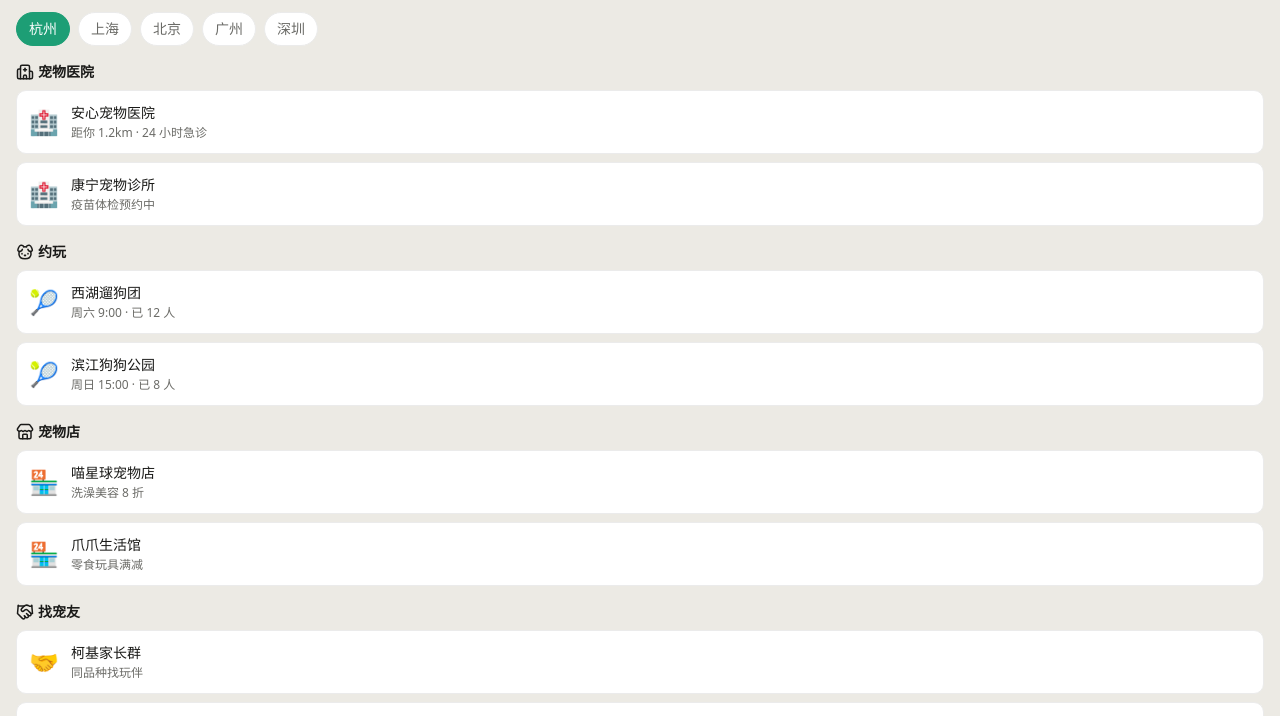
LocalView 同城分区 › 无数据城市显示各分区空态
Click the button "深圳".
click(291, 29)  # box 264,12 -> 318,46
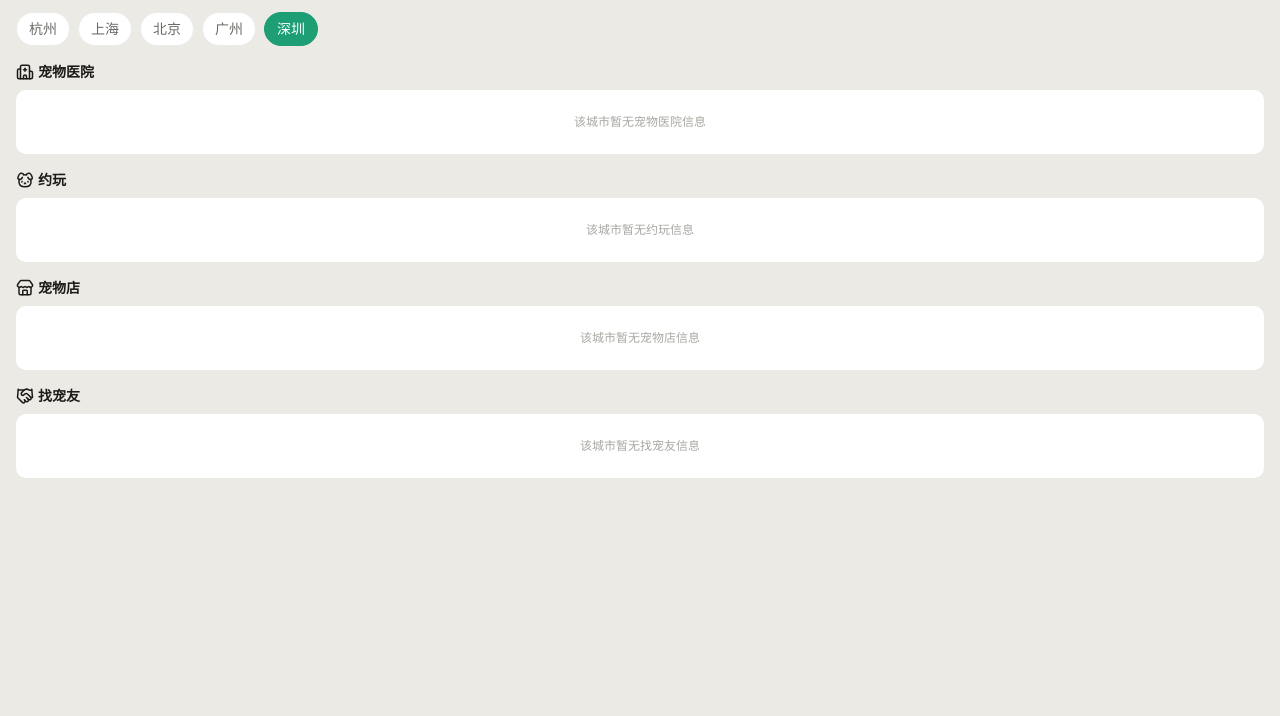
Check: the button "该城市暂无宠物医院信息" is shown, box 16,90 -> 1264,154
Check: the button "该城市暂无约玩信息" is shown, box 16,198 -> 1264,262
Check: the button "该城市暂无宠物店信息" is shown, box 16,306 -> 1264,370
